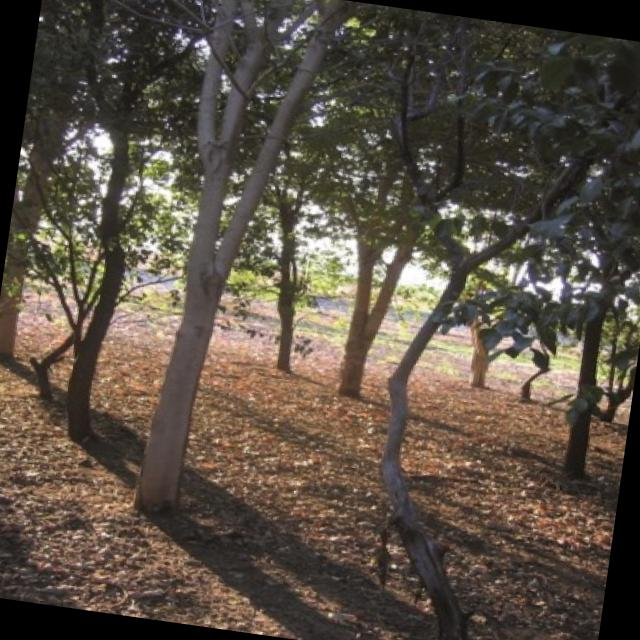Medicinal-Sandalwood: (11, 0, 399, 552), (309, 19, 640, 640)
